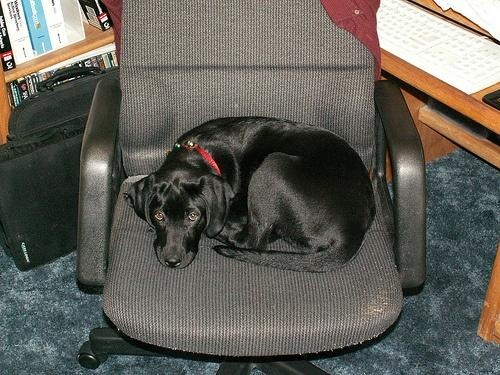chair: (75, 1, 428, 375)
dog: (123, 115, 379, 275)
